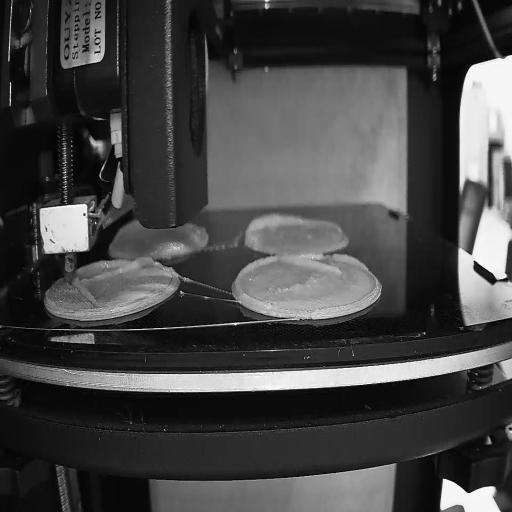over_extrusion: (233, 255, 278, 309), (243, 211, 303, 249), (278, 254, 370, 278), (100, 255, 158, 282), (72, 277, 98, 317)
